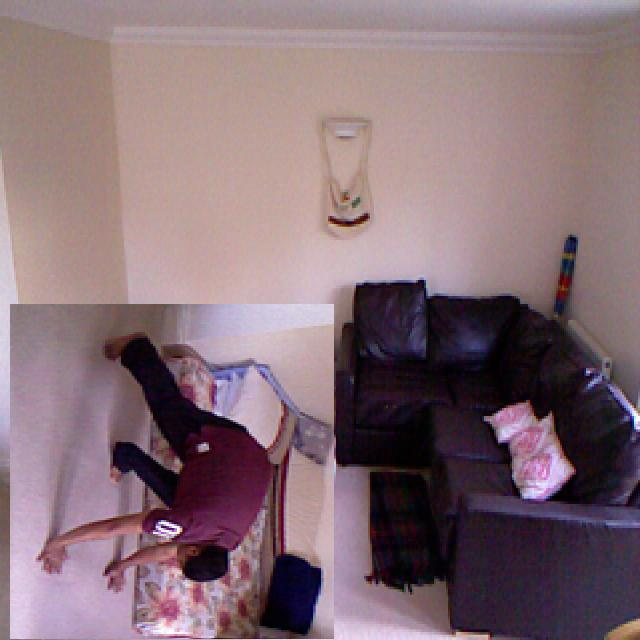Fall: (25, 309, 296, 618)
